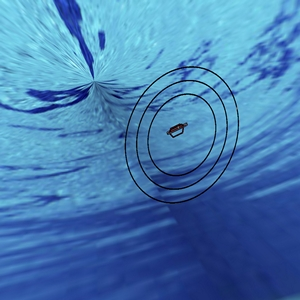circle: (116, 56, 245, 222)
submarine: (162, 112, 192, 153)
